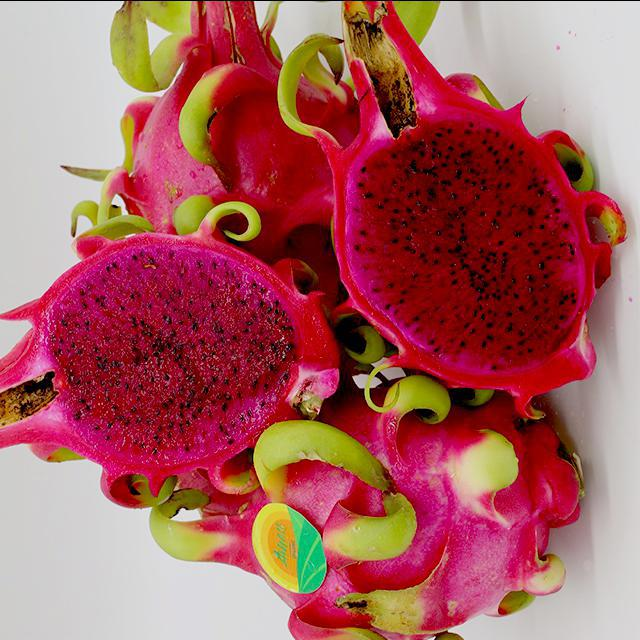do: (150, 372, 595, 639), (322, 1, 598, 392), (0, 221, 328, 488), (82, 1, 338, 262)
